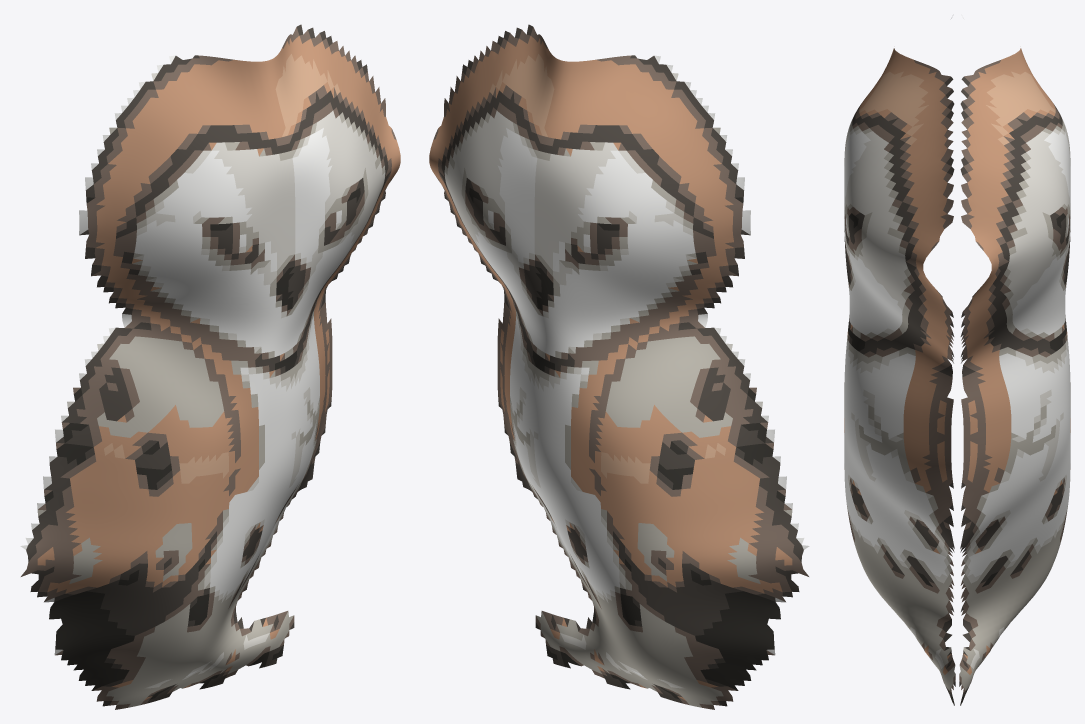
The model's file is prowlrock.glb.
The picture shows the model from 3 angles, left to right: view 1: azimuth 30°, elevation 25°; view 2: azimuth 150°, elevation 25°; view 3: azimuth 270°, elevation 25°; orthographic projection.
Visible parts, largest first — view 1: prowlrock; view 2: prowlrock; view 3: prowlrock.
Part boxes in pixels (left/top/right/bottom): prowlrock: left=20, top=24, right=400, bottom=709; prowlrock: left=429, top=24, right=809, bottom=709; prowlrock: left=844, top=18, right=1070, bottom=705.
Size of the model in its own units: 596 by 995 by 315.
